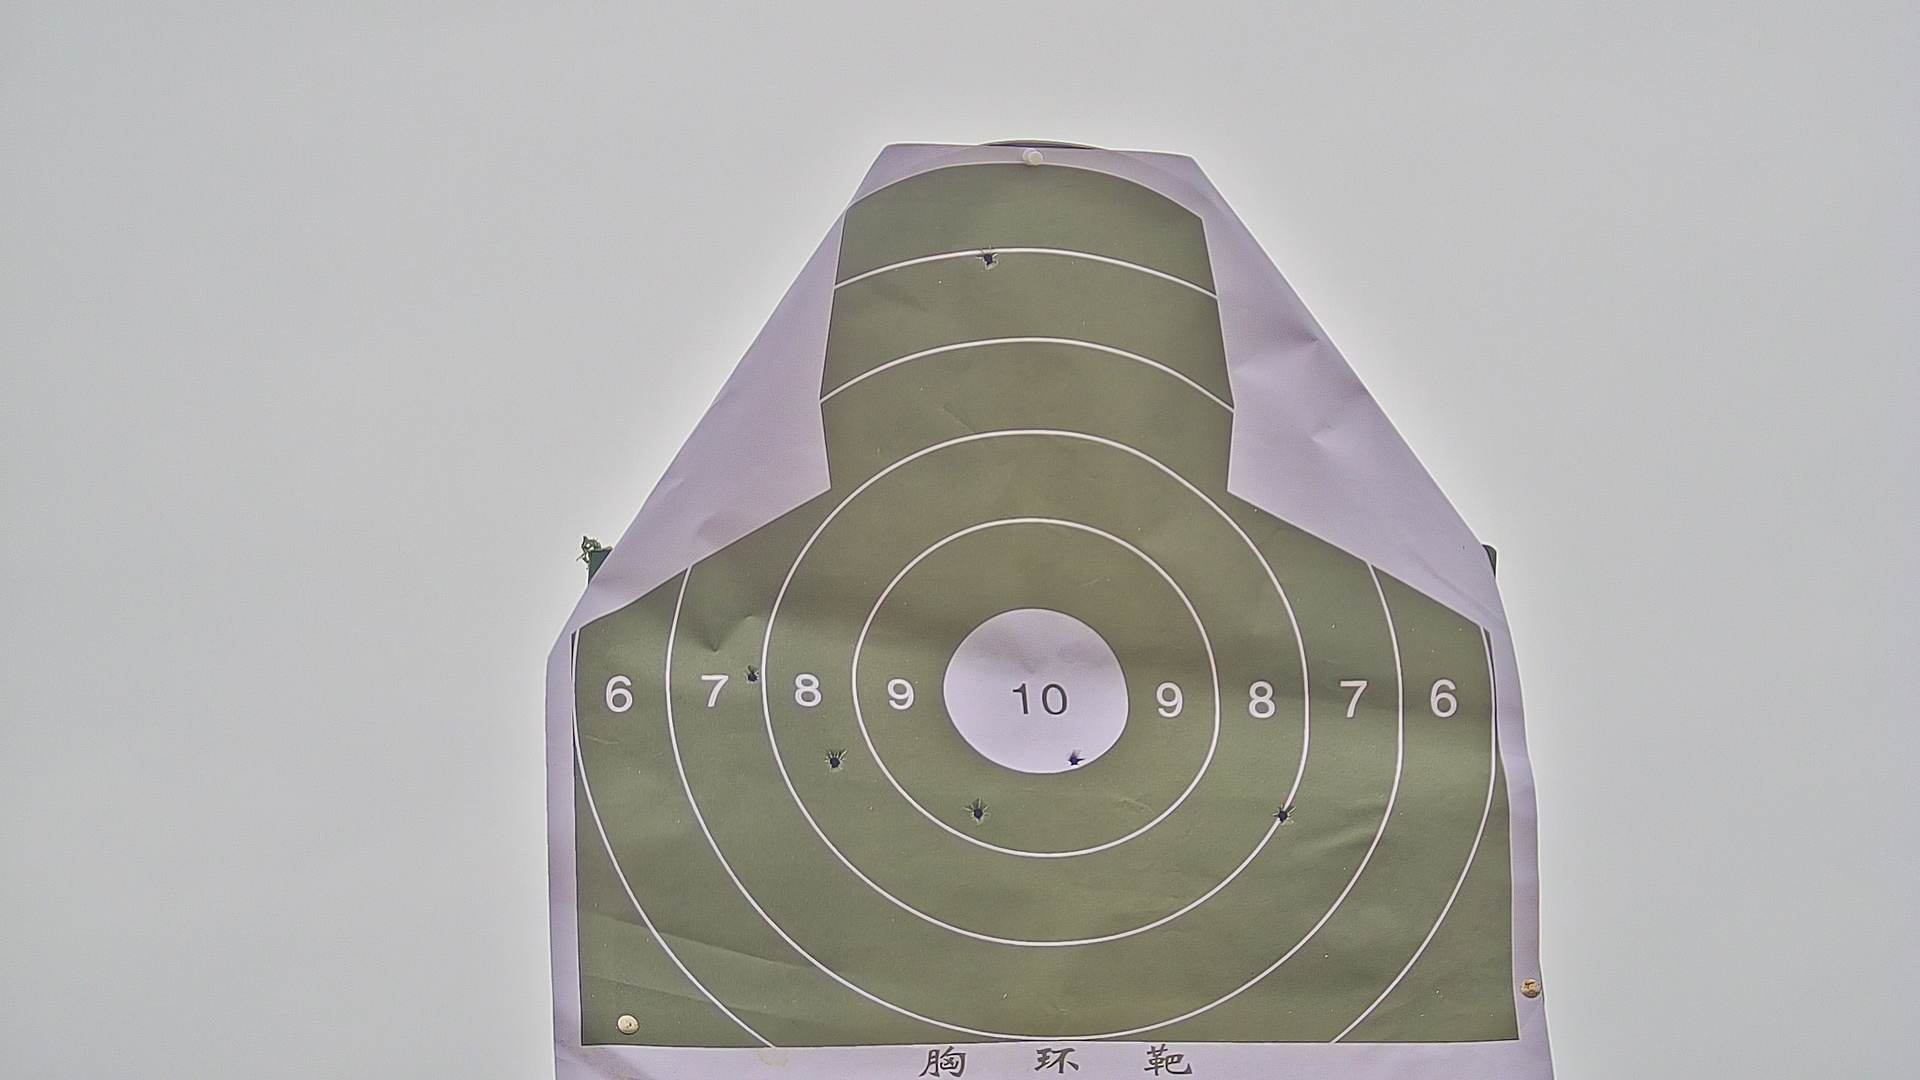hole: (735, 659, 767, 688), (822, 745, 849, 778), (963, 795, 989, 829), (1273, 799, 1298, 832), (975, 244, 1000, 273), (1062, 749, 1091, 771)
kernel: (1033, 699, 1038, 702)
target: (574, 165, 1527, 1044)
ten: (939, 596, 1135, 785)
